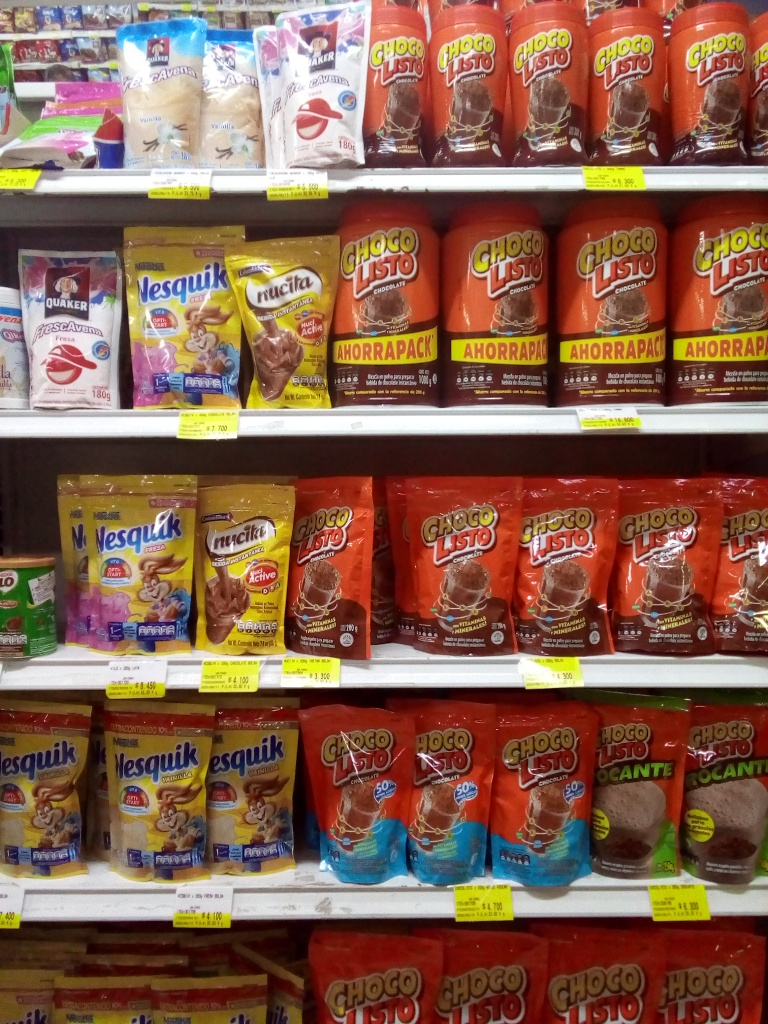COL0170102DYP25000: (593, 702, 681, 884)
COL0170103TRR00100: (336, 195, 441, 400)
COL0170103TRR30000: (370, 10, 427, 164)
COL0170104DYP20000: (297, 705, 408, 880)
COL0170203LAT40000: (2, 553, 57, 660)
COL0170305DYP20000: (119, 221, 250, 408)
